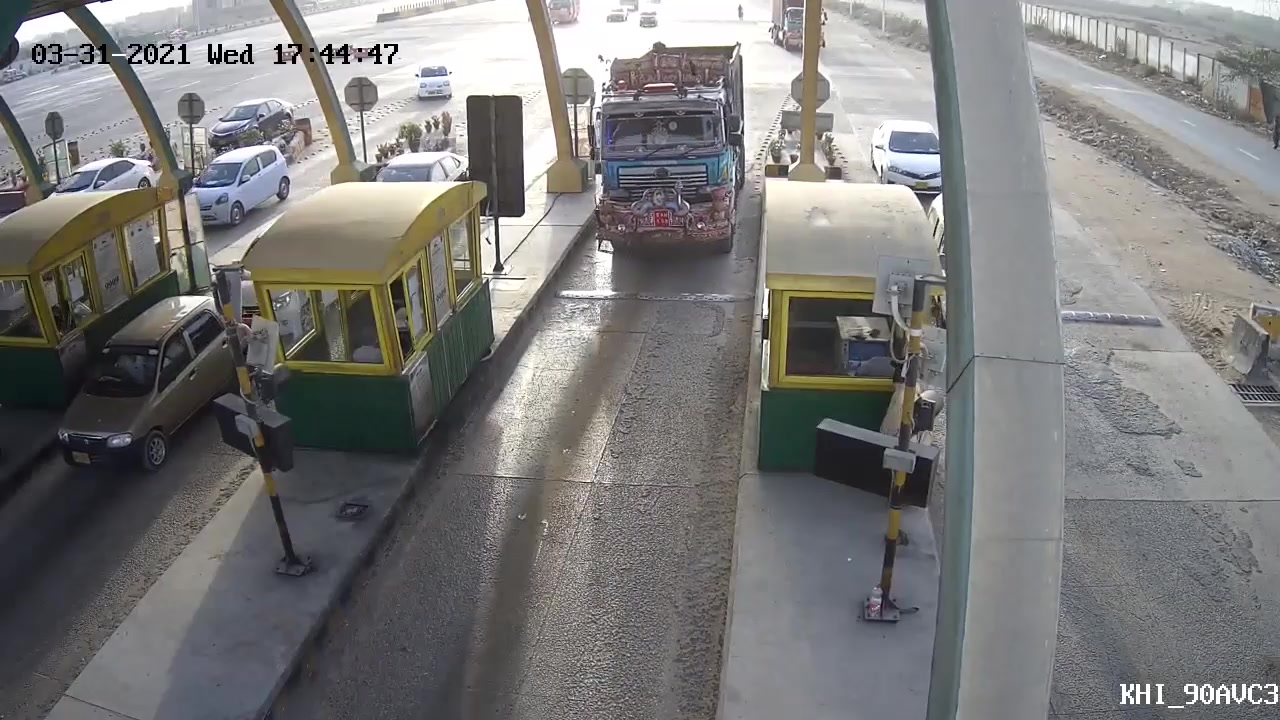F5: (573, 26, 752, 281)
